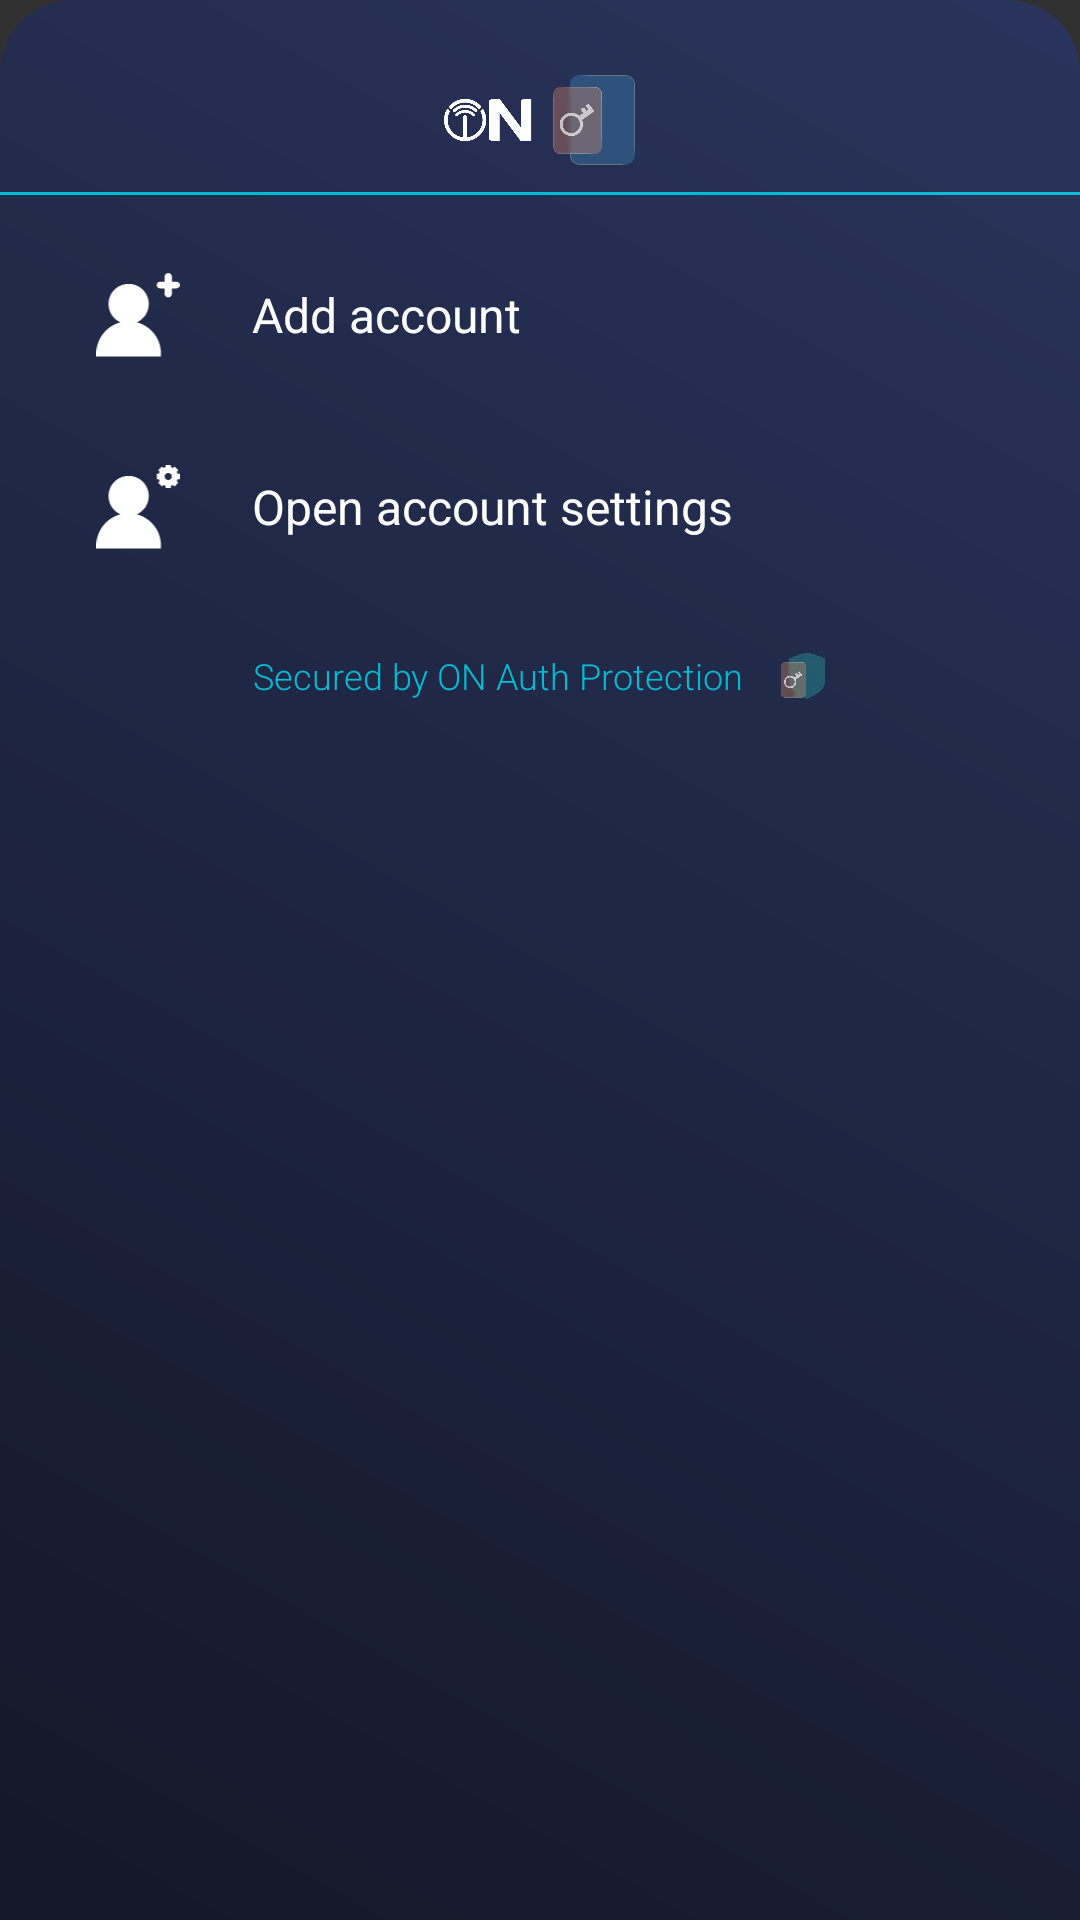

Where to tap for icons on this 1080 × 1920 app screen, as (x=x, y=y):
account manage: (x=138, y=507)
on auth security emblem: (x=803, y=676)
